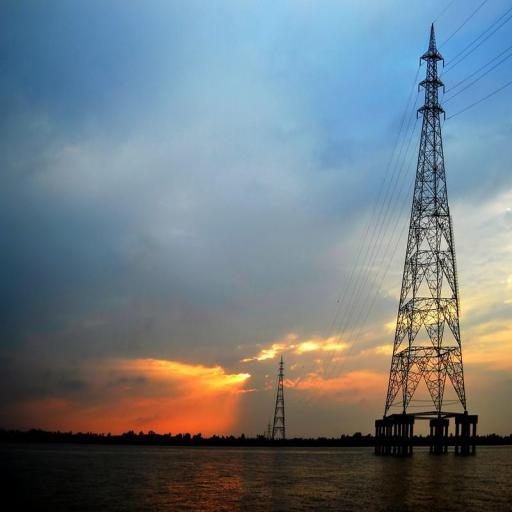ss_3: (384, 24, 467, 412), (272, 357, 287, 446)
